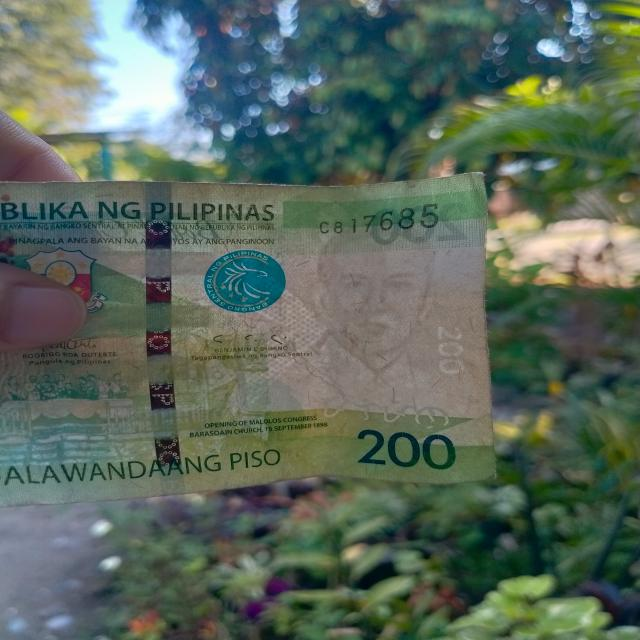security_thread: (144, 184, 185, 494)
see_through_mark: (296, 394, 468, 428)
serial_number: (318, 201, 438, 236)
value_watermark: (433, 318, 467, 386)
watermark: (272, 225, 445, 412)
